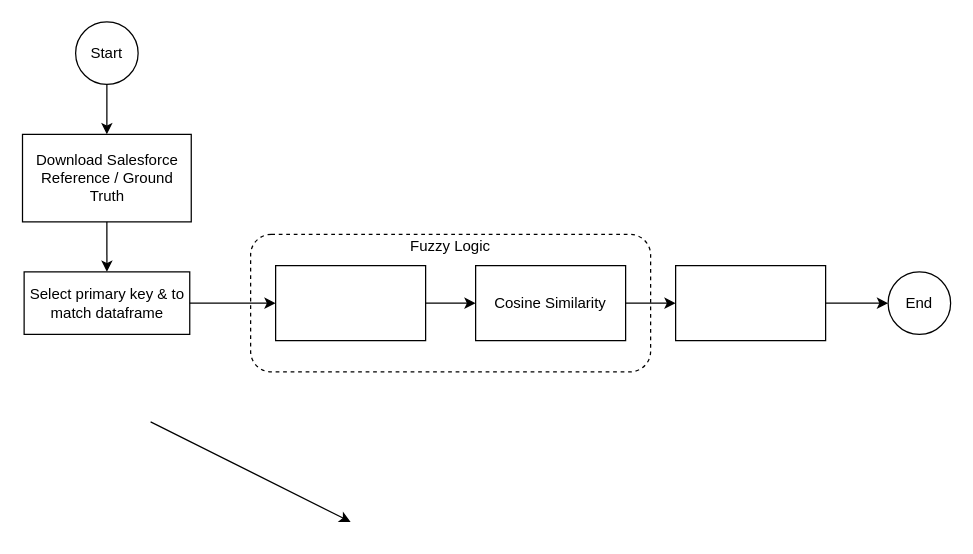
This 973x554 diagram has some shape labels left out. The shapes that lost their labels are listed below. From the top down, each one's centre as x and y in pixels, then its label:
At (x=350, y=302): "Vectorize".
At (x=750, y=302): "Output segmented results".
